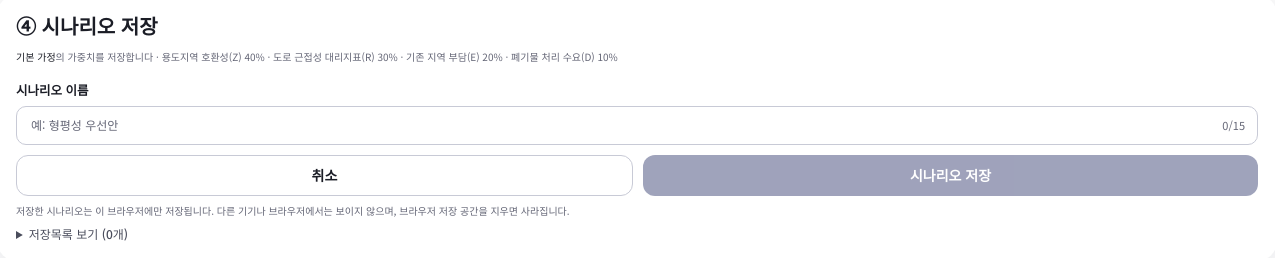
Test: save form › keeps the save button unavailable until a name is typed
Expected: the button with test id "scenario-save-submit" is disabled, [643,155,1258,196]
Type "형평성안" into the field with test id "scenario-name-input" at (623, 125), box [31,117,1214,133]
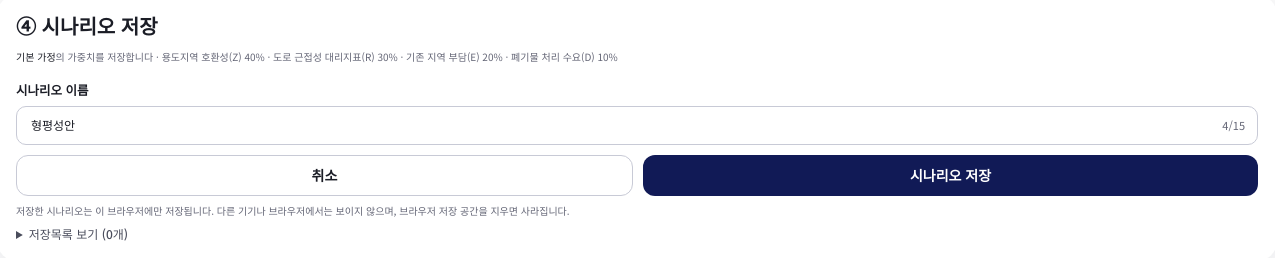
Now the button with test id "scenario-save-submit" is enabled, box [643,155,1258,196]
